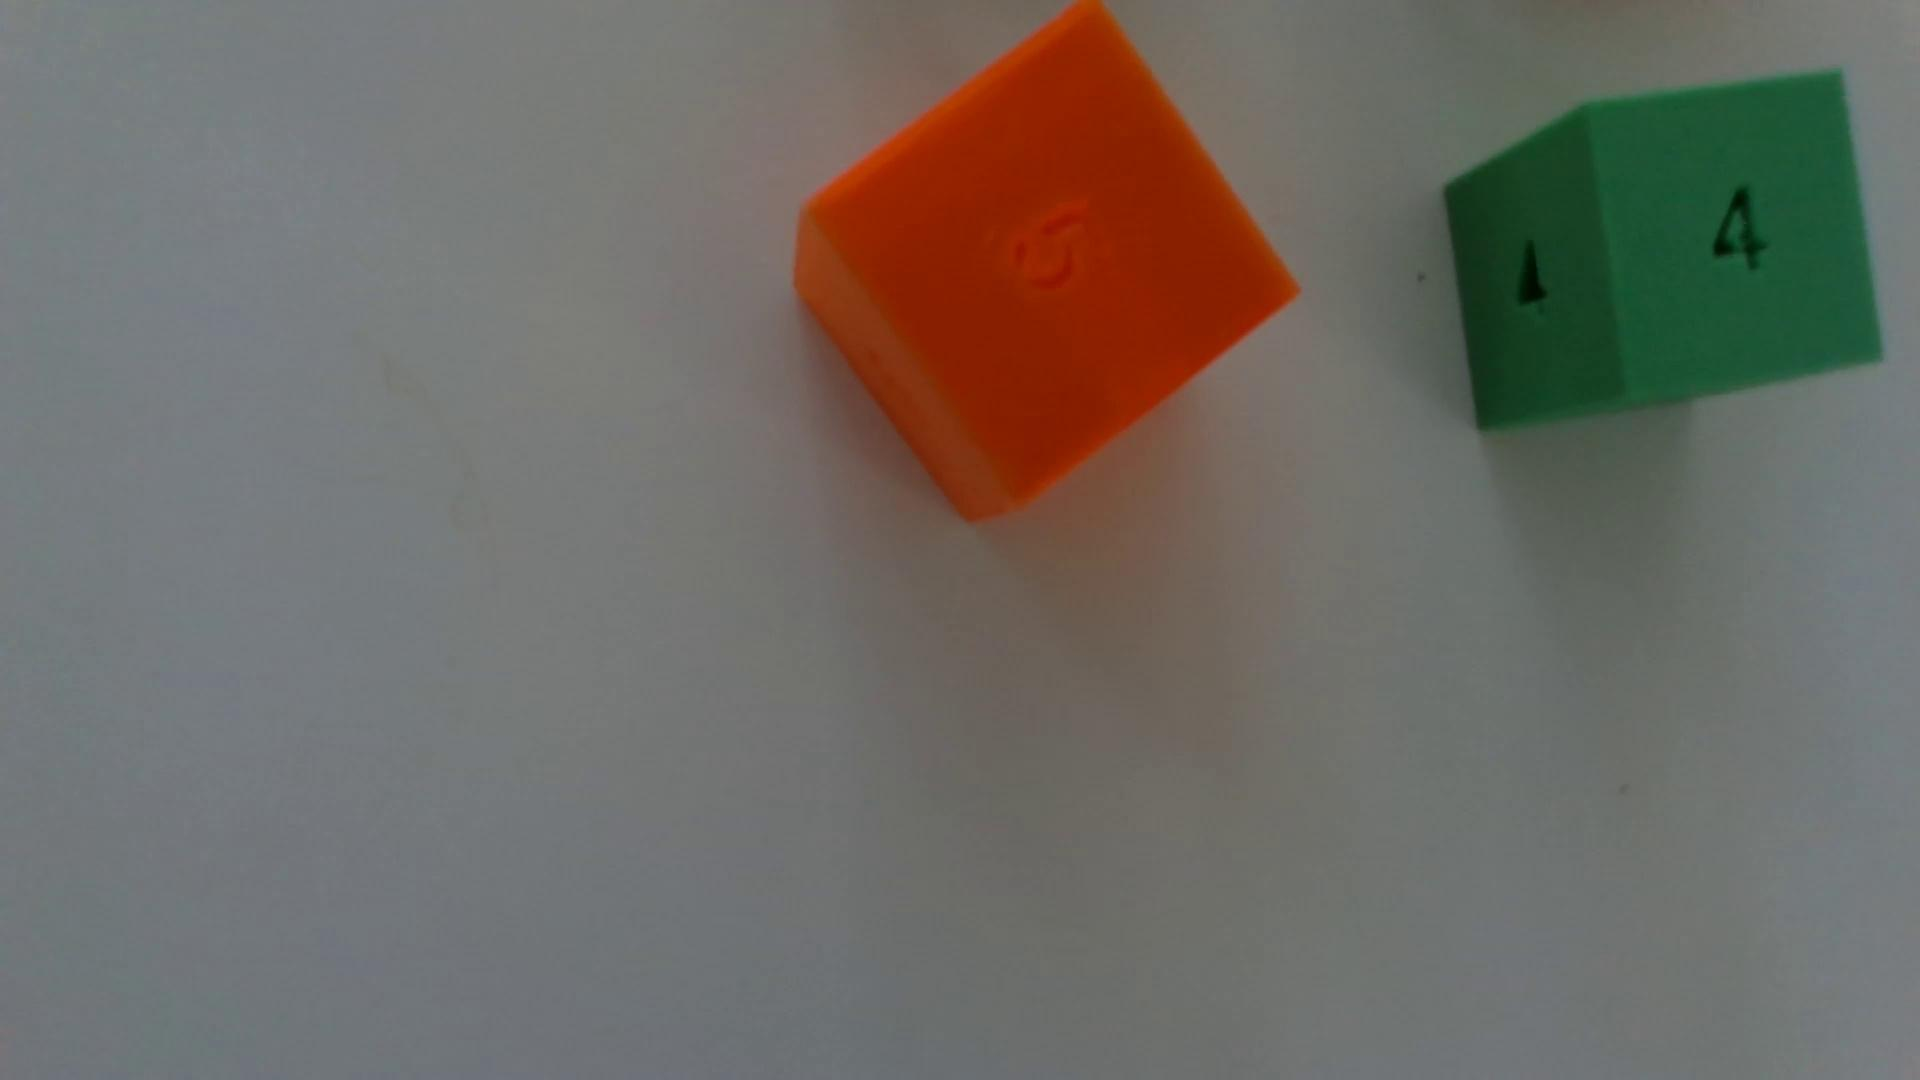green: (1444, 71, 1882, 431)
orange: (794, 0, 1298, 521)
